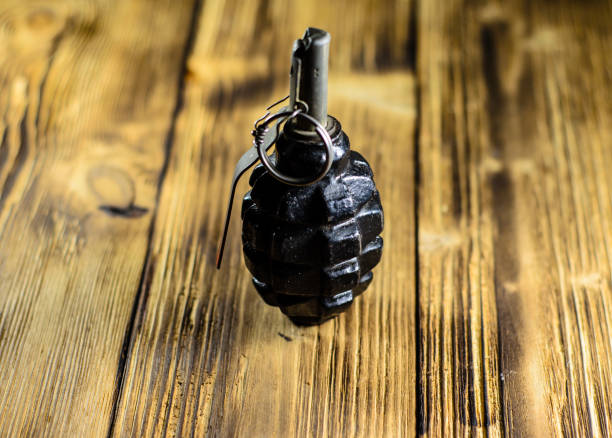e1: (219, 26, 387, 333)
